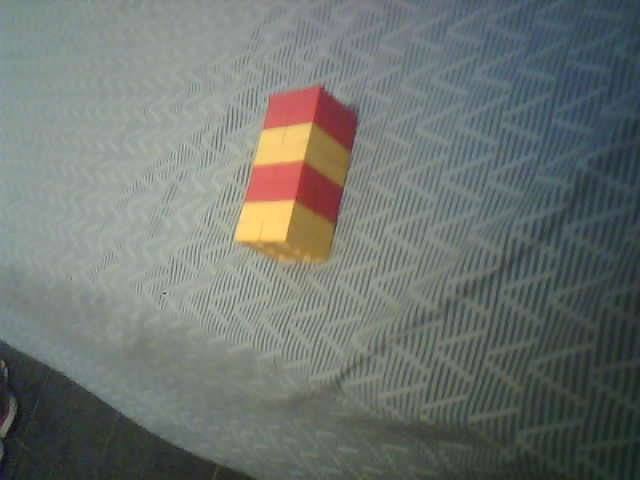lego: (232, 84, 358, 265)
